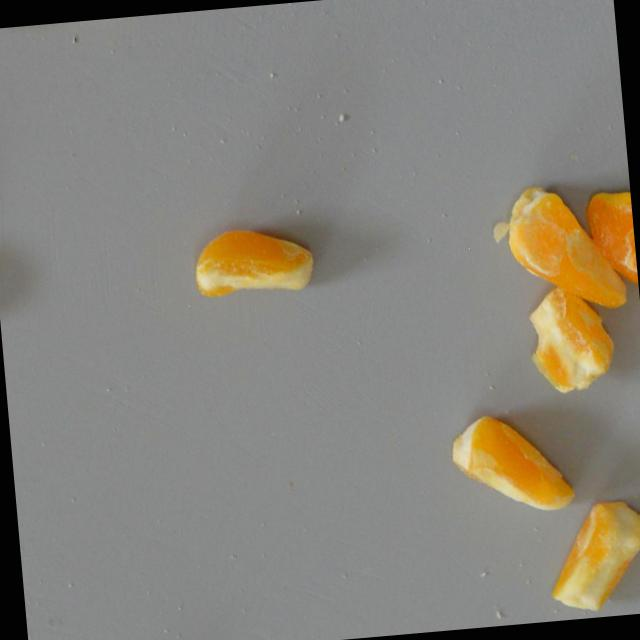dañado: (581, 182, 638, 290)
pelicula: (503, 180, 628, 317), (447, 404, 576, 523), (524, 282, 620, 395), (190, 218, 319, 301), (552, 495, 640, 616)
